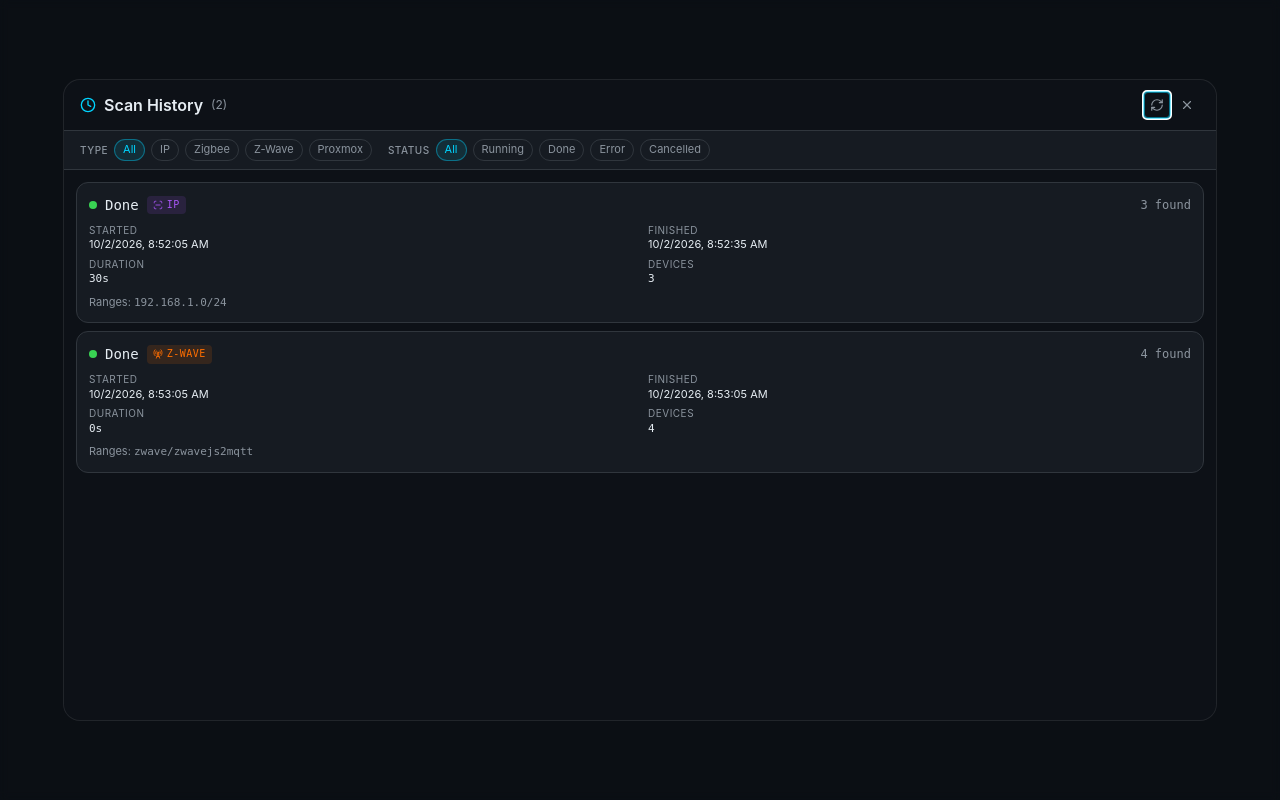
Test case: ScanHistoryModal › filters by Z-Wave kind and labels the run
The width and height of the screenshot is (1280, 800).
Expected: the text "done" is shown 2 times, 105,195 -> 139,215; 105,344 -> 139,364
Click the button "Z-Wave". click: (274, 150)
box: 245,139 -> 303,161
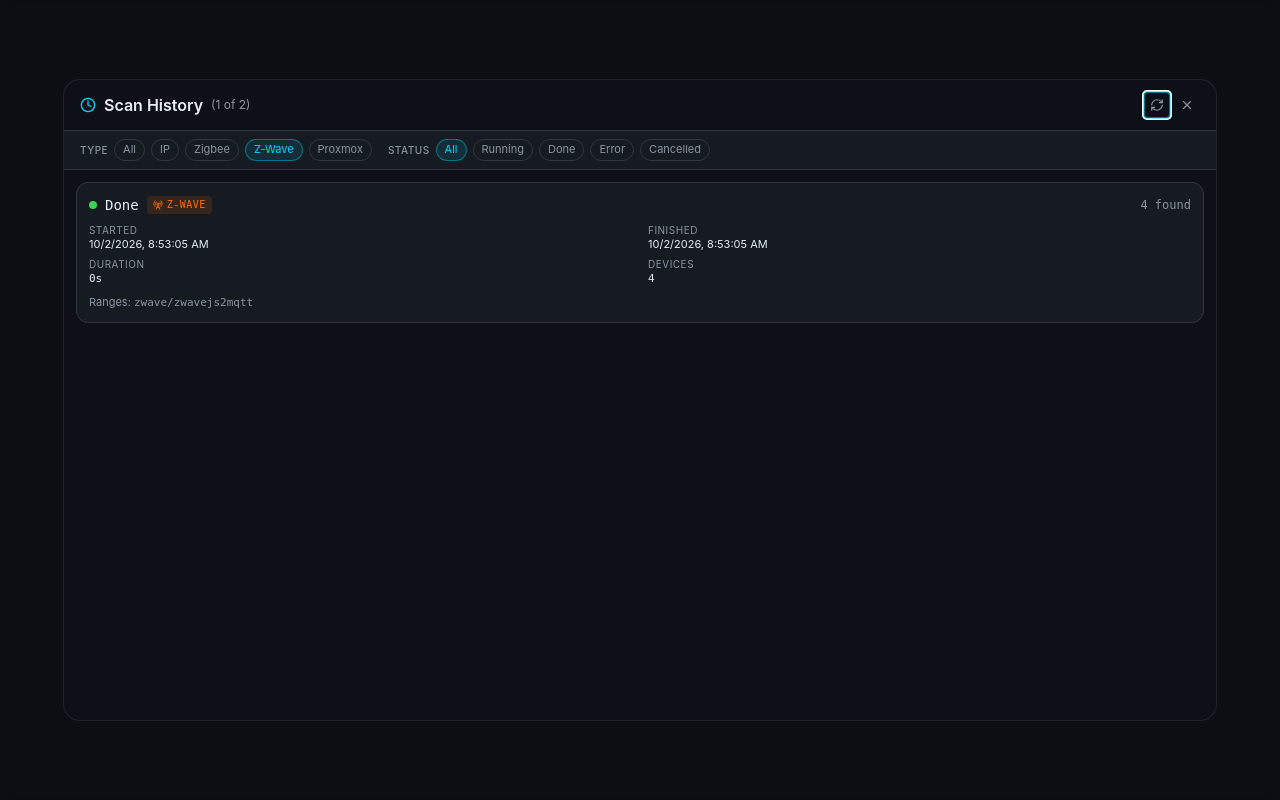
Expected: the text "4 found" is shown, 1140,197 -> 1191,213
Expected: the text "3 found" is gone
